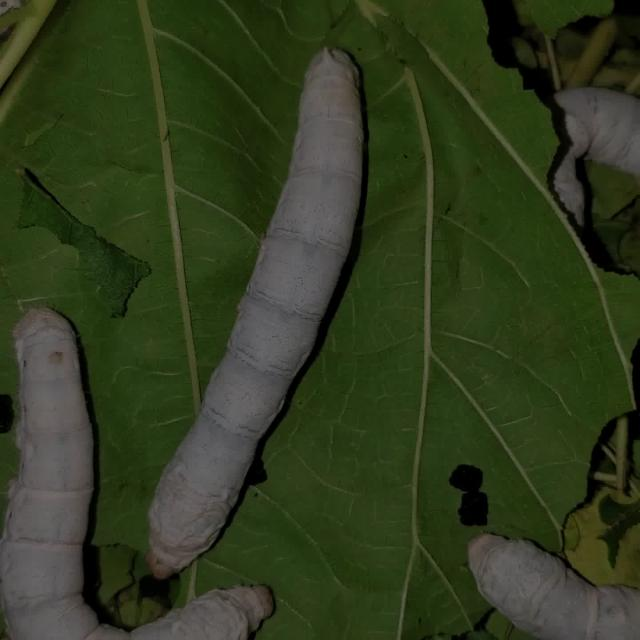Healthy: (127, 17, 443, 588)
